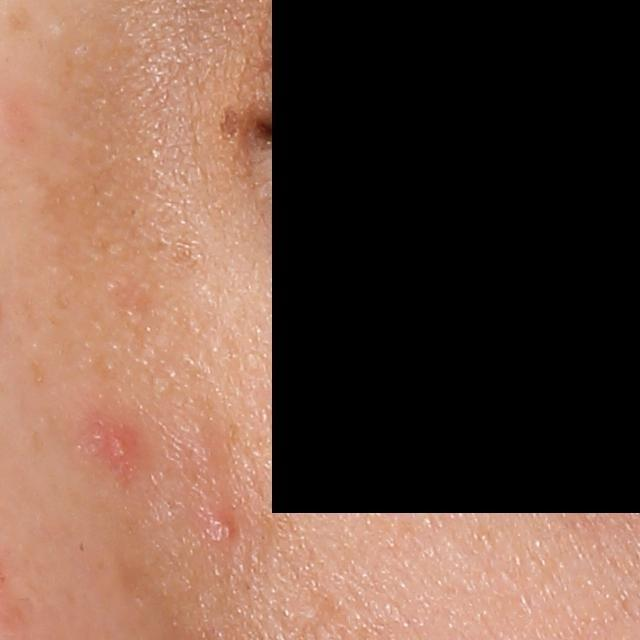papule: (204, 506, 238, 545)
